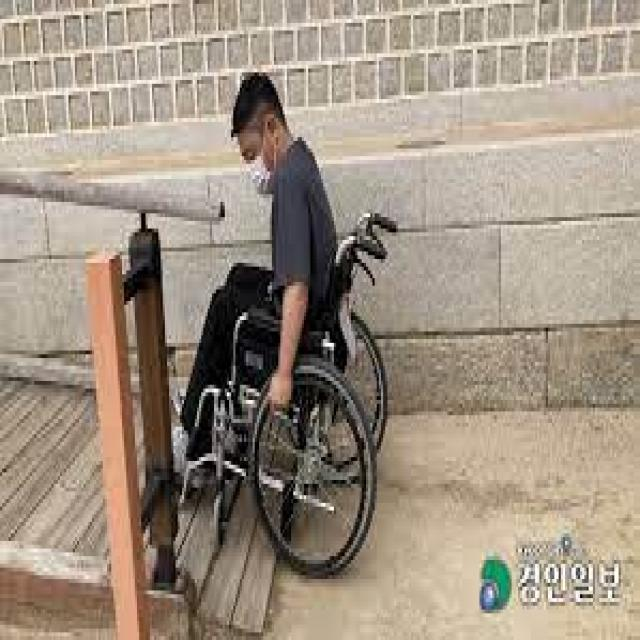wheelchair: (178, 69, 400, 574)
